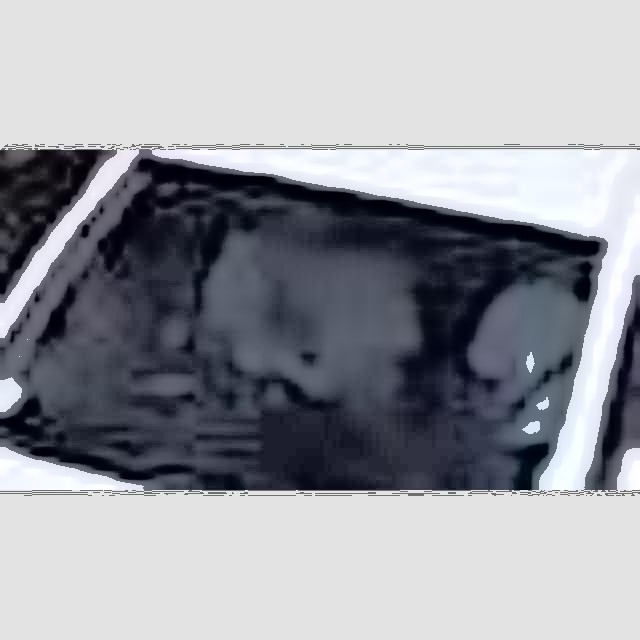pakai: (421, 239, 608, 425)
tidak-pakai: (186, 215, 405, 409)
